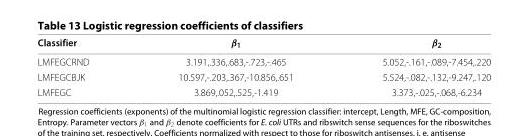table: (36, 36, 490, 97)
table column: (133, 36, 337, 97), (337, 36, 490, 97), (36, 36, 133, 97)
table column header: (36, 36, 490, 52)
table row: (36, 36, 490, 52), (36, 52, 490, 68), (36, 68, 490, 84), (36, 84, 490, 97)
